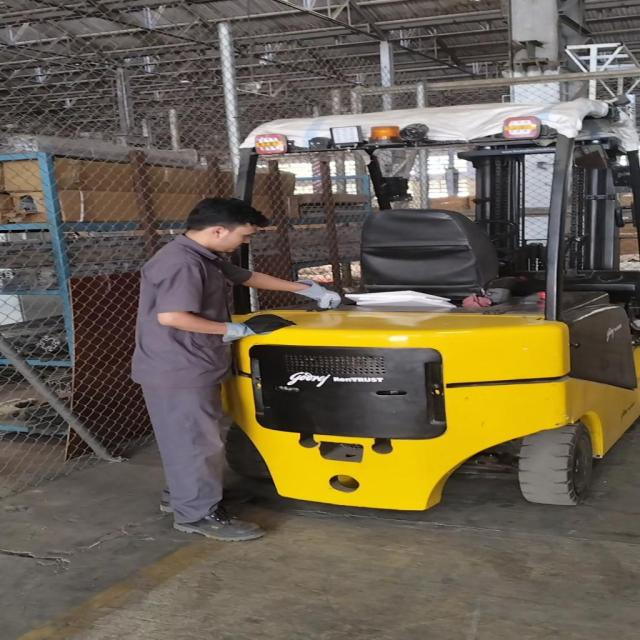Gloves-Detection: (294, 269, 350, 324), (222, 315, 284, 338)
